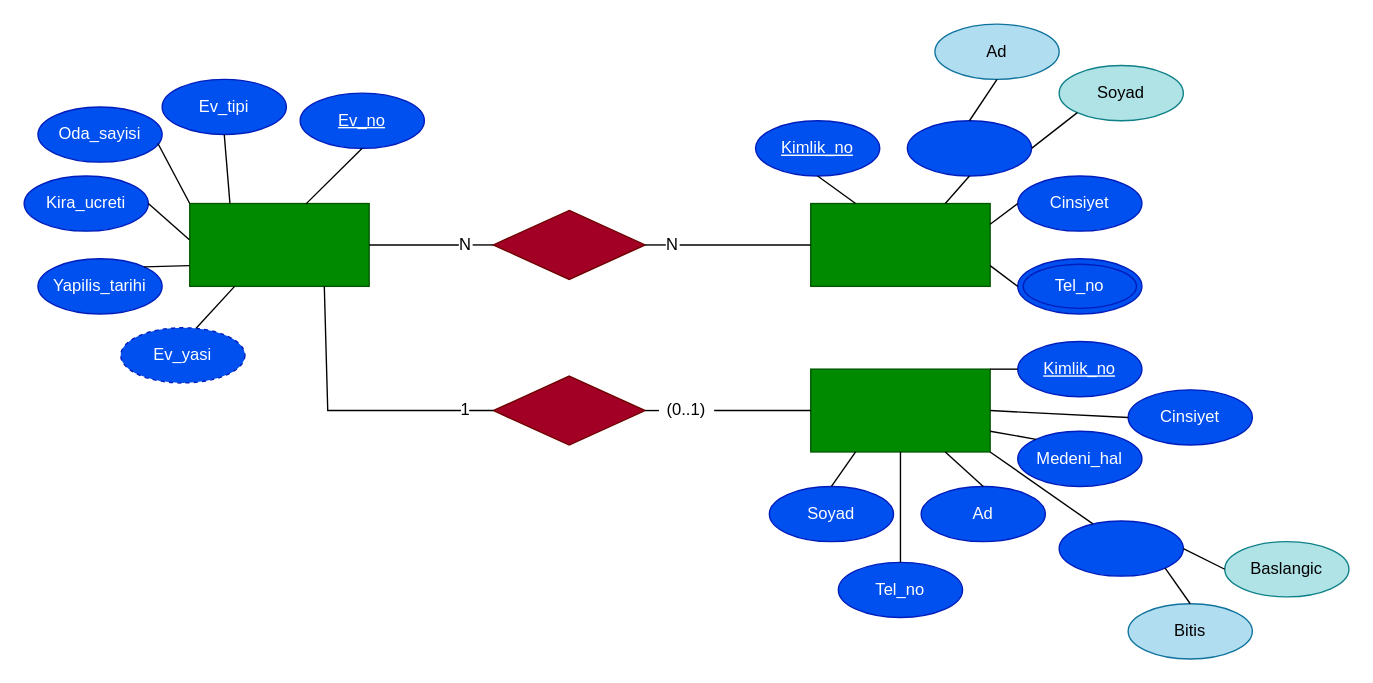
Image size: 1373x683. Some labels were removed from this diagram. The shapes that lost their labels are listed below. From the top down, each one's box as (x1, y1, x2, y2) in pixels, then its label:
(906, 119, 1032, 176): Isim
(188, 202, 369, 286): Ev
(492, 209, 645, 279): SAHİPTİR
(809, 202, 990, 286): Ev_Sahibi
(492, 375, 645, 445): KIRALAYABILIR
(809, 368, 990, 452): Kiraci
(1058, 520, 1183, 576): Kiralanan_tarih
